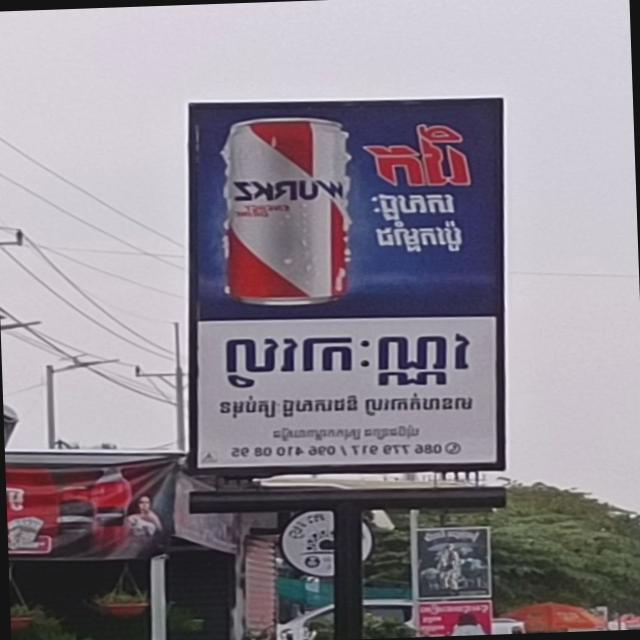1: (218, 327, 473, 393), (211, 391, 479, 421)
Yolov11_80vkh: (361, 120, 478, 188), (369, 217, 472, 255), (368, 189, 460, 220)
